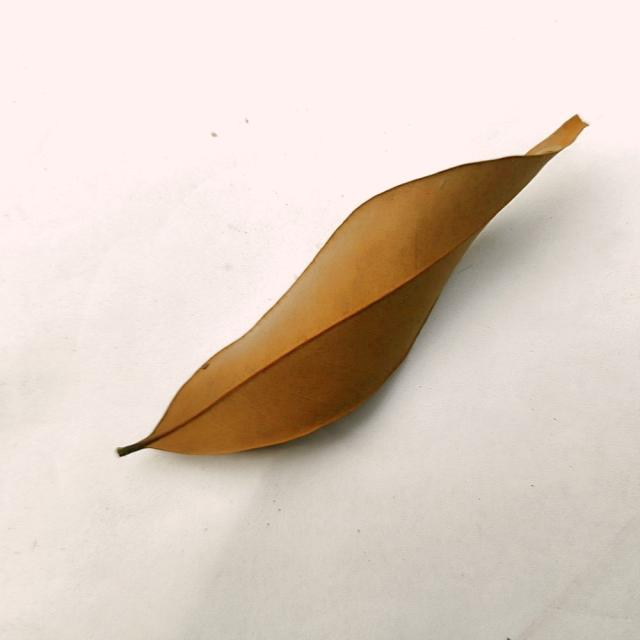Dry_Leaf-Lychee: (118, 116, 588, 458)
